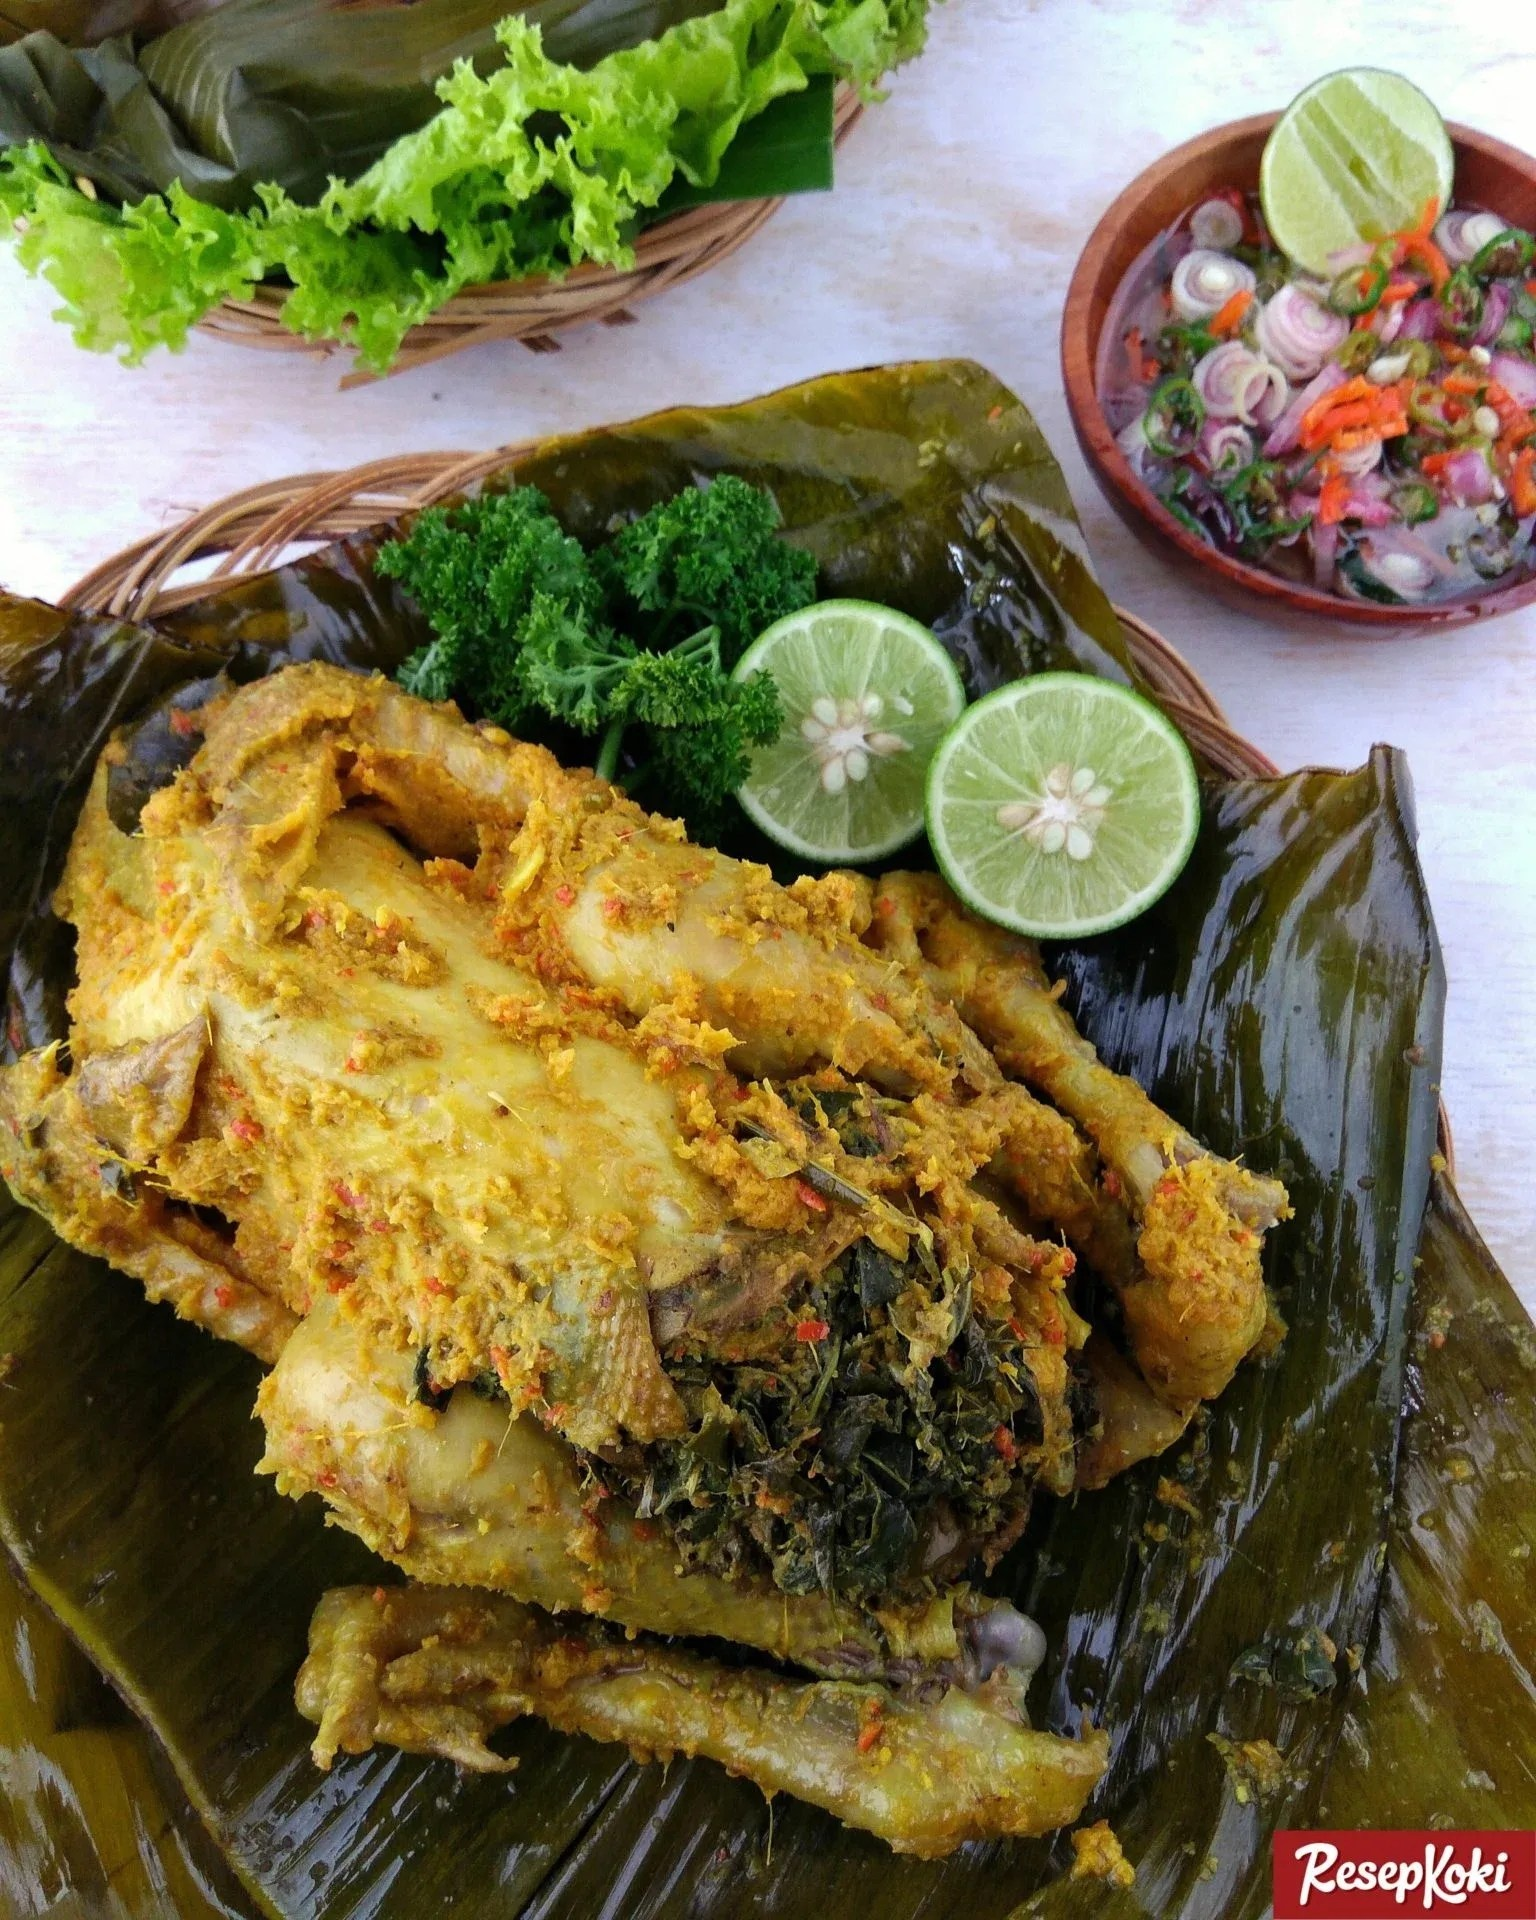ayam_betutu: (8, 669, 1291, 1860)
